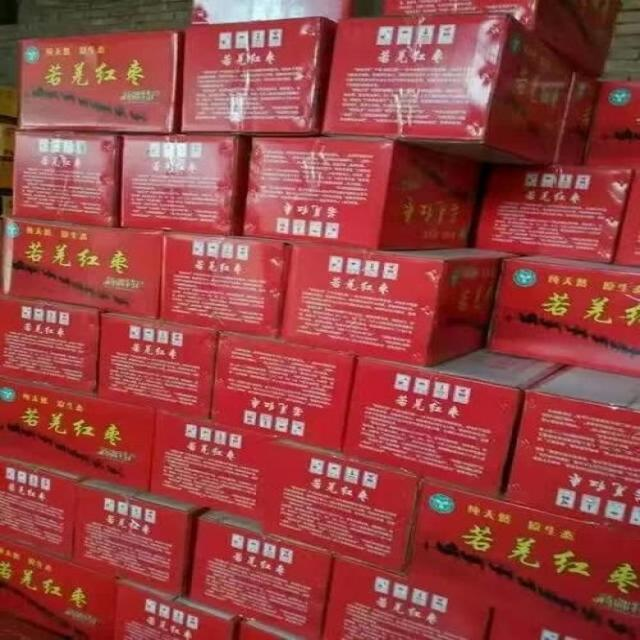box: (147, 408, 422, 575), (317, 13, 577, 166), (403, 479, 640, 640), (337, 348, 567, 498), (279, 241, 530, 367), (241, 134, 481, 251), (502, 364, 640, 538), (174, 15, 337, 135), (188, 509, 337, 640), (484, 252, 640, 377), (381, 0, 620, 80), (211, 331, 358, 456), (0, 378, 156, 495), (1, 214, 165, 321), (474, 161, 635, 264), (20, 31, 182, 133), (73, 479, 206, 600), (159, 230, 291, 341), (321, 556, 493, 640), (115, 132, 251, 237), (95, 312, 219, 421), (0, 537, 118, 640), (13, 129, 122, 229), (0, 294, 104, 396), (1, 458, 78, 562), (115, 581, 239, 639), (584, 78, 640, 170), (550, 64, 600, 166), (191, 0, 351, 25), (484, 610, 581, 640), (612, 170, 640, 269), (234, 618, 325, 639)
